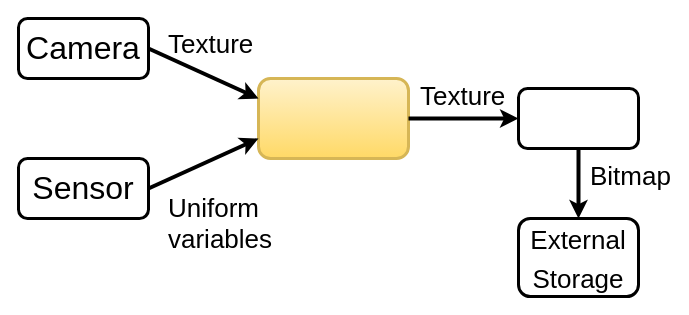
Some shapes in this 689 by 315 pixel diagram are drawn without their labels. Each missing label, with the box of its shape:
Shader (GLSL): (256, 76, 410, 160)
View: (516, 86, 640, 150)
